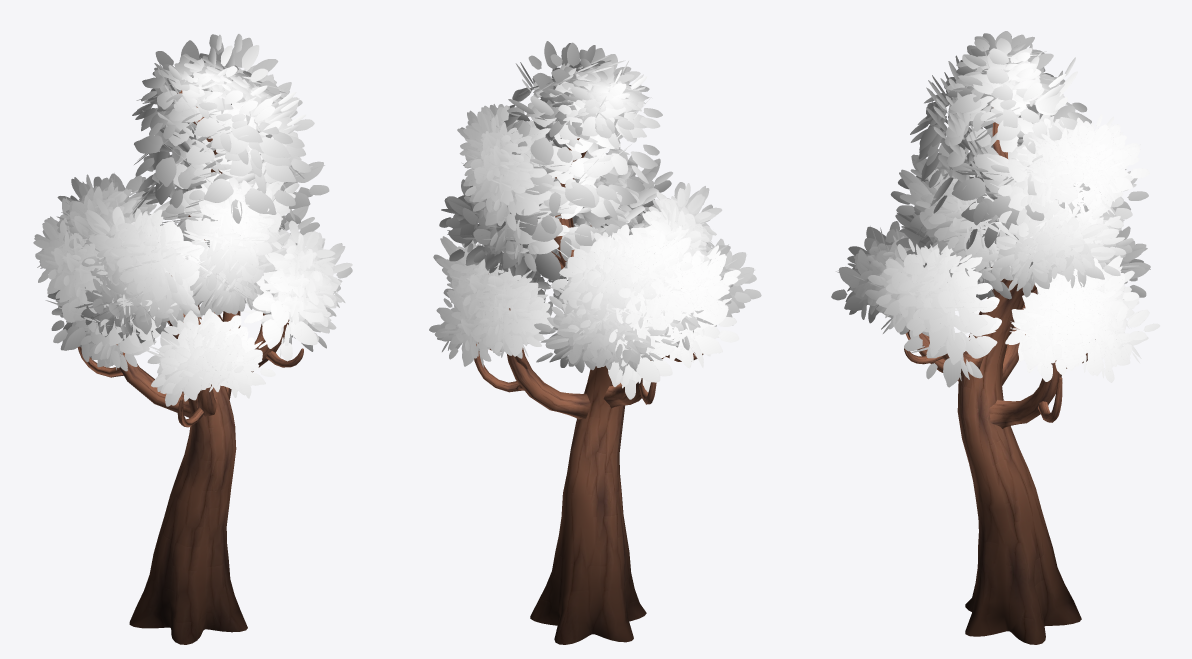
Rendered from CommonTree_2.glb.
The picture shows the model from 3 angles, left to right: view 1: azimuth 30°, elevation 25°; view 2: azimuth 150°, elevation 25°; view 3: azimuth 270°, elevation 25°; orthographic projection. The views are drawn at different scales.
Visible parts, largest first — view 1: CommonTree_2; view 2: CommonTree_2; view 3: CommonTree_2.
Part boxes in pixels (x1,y1,x2,y2): CommonTree_2: (33, 34, 352, 644); CommonTree_2: (429, 41, 761, 644); CommonTree_2: (831, 31, 1159, 644).
Size of what is drawn, in the model's own units: 4.46 by 7.64 by 4.28.
Materials: 2 (2 with a texture image).
